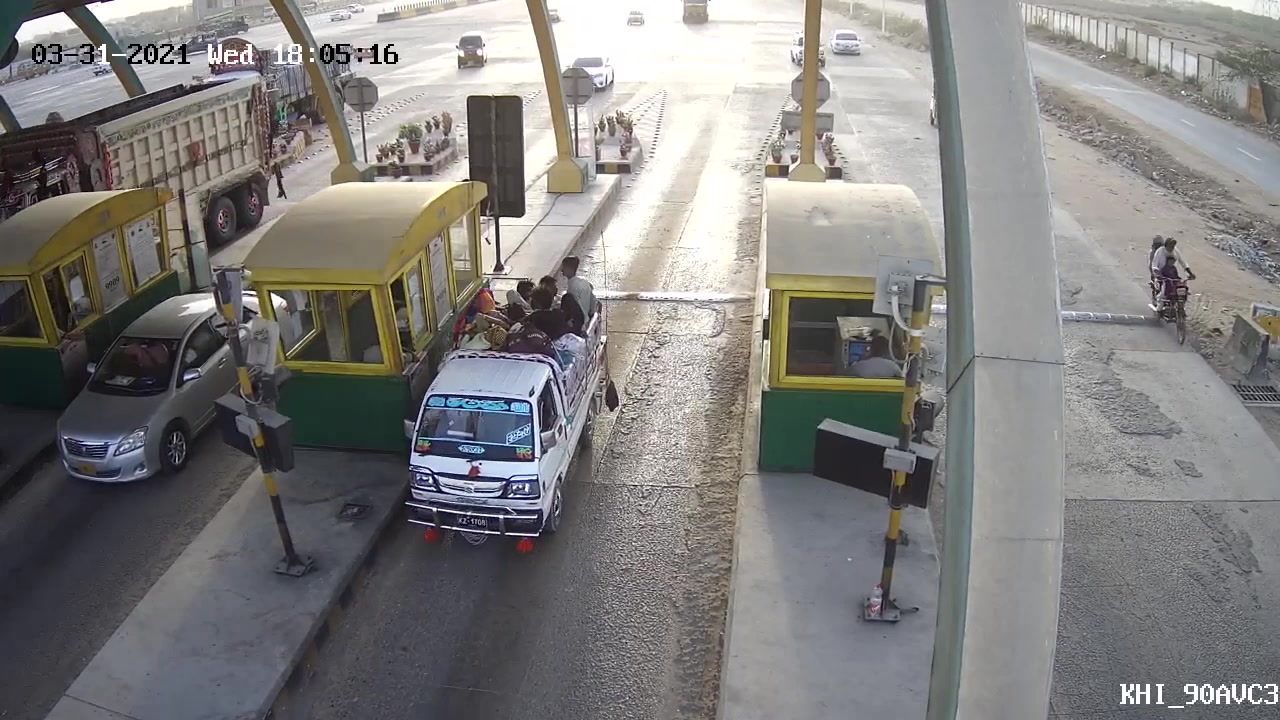F2: (389, 254, 622, 557)
